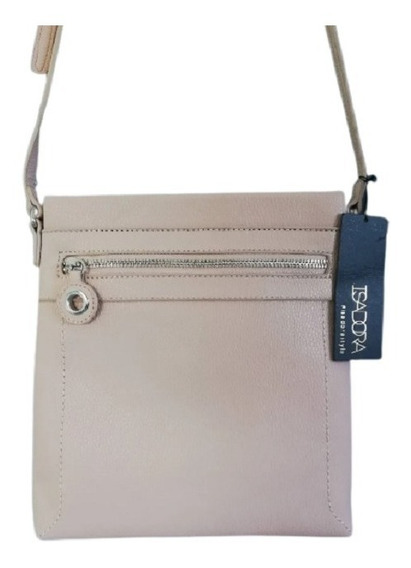cartera: (28, 186, 360, 539)
